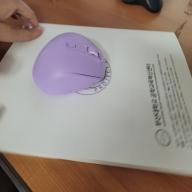mouse: (32, 31, 106, 96)
